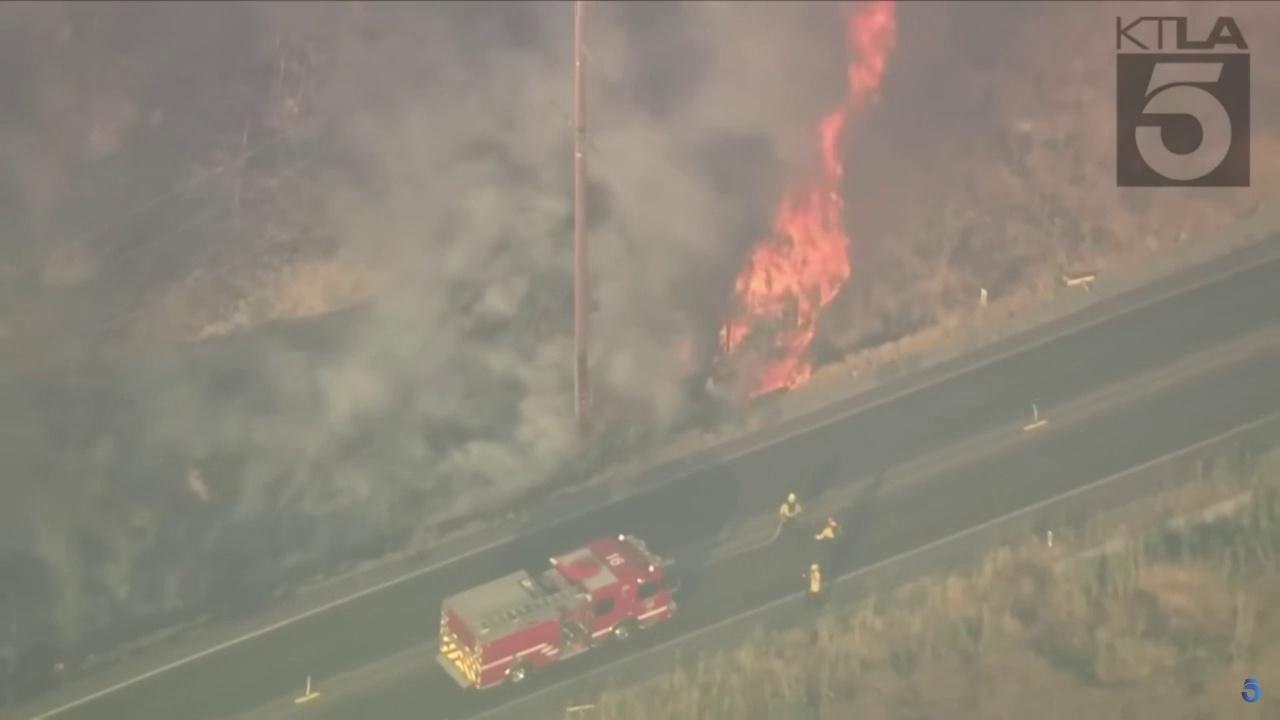fire: (717, 0, 900, 402)
smoke: (0, 0, 938, 668)
